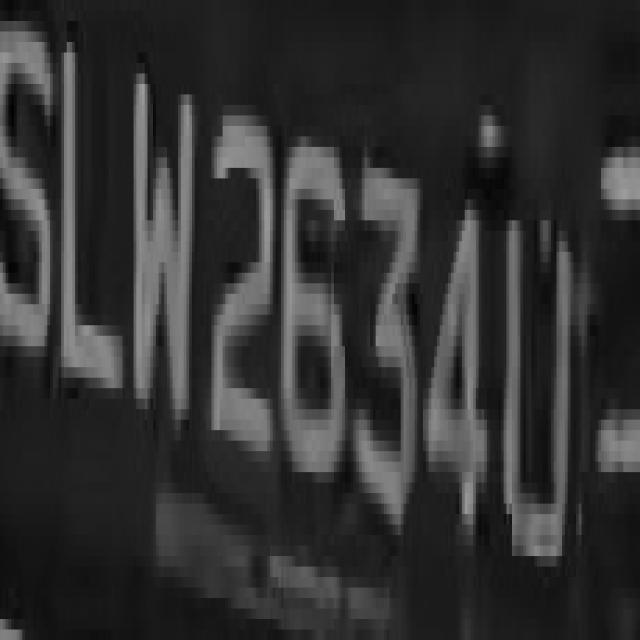2: (206, 95, 278, 482)
3: (345, 126, 420, 545)
4: (418, 158, 484, 546)
6: (273, 105, 356, 525)
L: (53, 53, 117, 409)
S: (2, 21, 56, 409)
U: (493, 178, 576, 577)
W: (117, 53, 203, 451)
